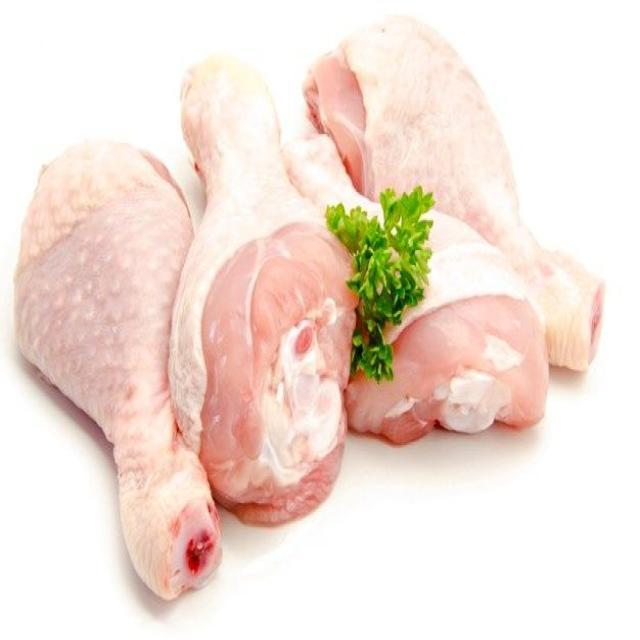leg: (327, 15, 603, 378), (16, 136, 220, 584), (285, 101, 548, 442), (174, 54, 347, 518)
